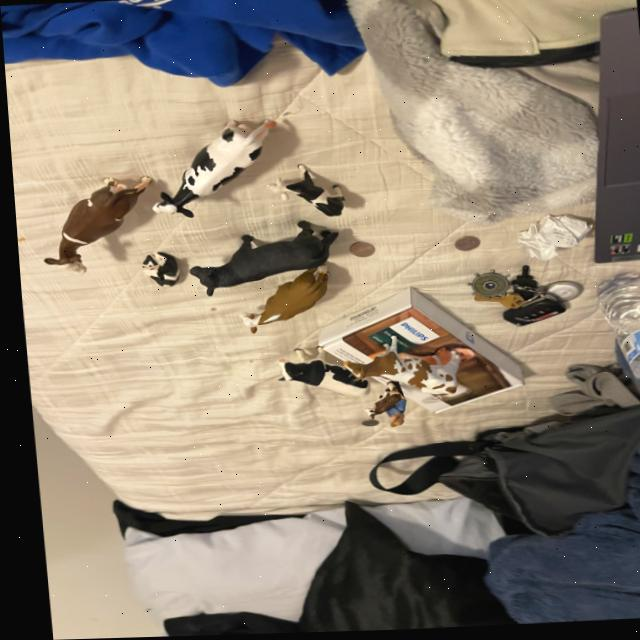cow: (141, 100, 283, 235), (32, 151, 152, 285), (180, 213, 341, 300), (335, 326, 466, 407), (268, 340, 369, 406), (241, 264, 334, 333), (264, 156, 349, 222), (133, 248, 179, 290), (360, 388, 397, 422)
person: (376, 397, 401, 431)
